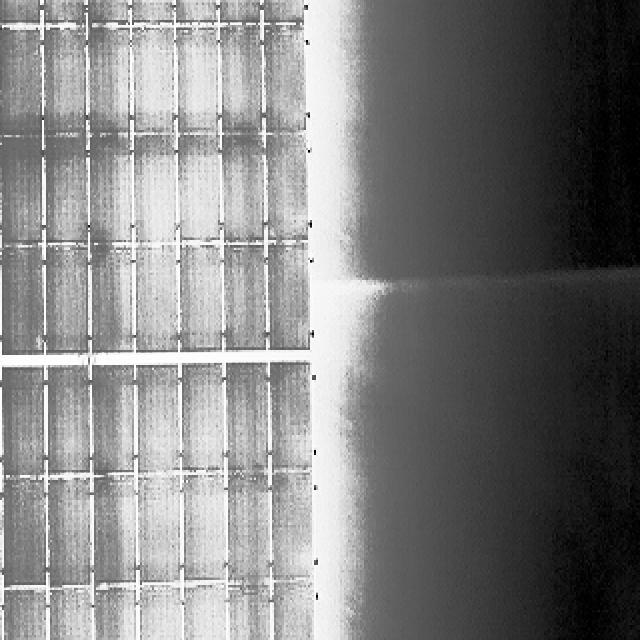Hotspots: (0, 600, 4, 615), (0, 562, 2, 582)
PV-modules: (180, 249, 233, 360), (128, 368, 178, 481), (222, 471, 270, 584), (221, 357, 267, 472), (86, 244, 134, 354), (124, 25, 171, 136), (4, 372, 50, 484), (264, 135, 310, 246), (134, 477, 180, 588), (43, 25, 89, 136), (258, 25, 304, 136), (84, 26, 130, 137), (270, 474, 315, 587), (266, 243, 313, 351), (44, 246, 90, 356), (47, 480, 93, 590), (90, 478, 135, 590), (47, 364, 92, 476), (182, 367, 227, 479), (218, 24, 263, 136), (90, 360, 134, 474), (222, 134, 268, 243), (181, 476, 226, 587), (269, 360, 313, 473), (44, 138, 90, 246), (132, 136, 177, 246), (133, 245, 179, 352), (176, 25, 220, 136), (224, 246, 270, 352), (86, 137, 130, 246), (178, 137, 222, 245), (0, 480, 44, 588), (0, 25, 42, 137), (0, 243, 42, 355), (0, 135, 40, 243), (134, 586, 182, 640), (270, 584, 316, 640), (45, 589, 95, 640), (182, 585, 228, 640), (229, 587, 275, 640), (3, 589, 50, 640), (93, 588, 139, 640), (40, 0, 88, 28), (174, 0, 218, 28), (0, 0, 40, 28), (216, 0, 260, 25), (256, 0, 300, 25), (122, 0, 168, 22), (84, 0, 128, 22), (0, 480, 2, 592), (0, 592, 2, 640)
